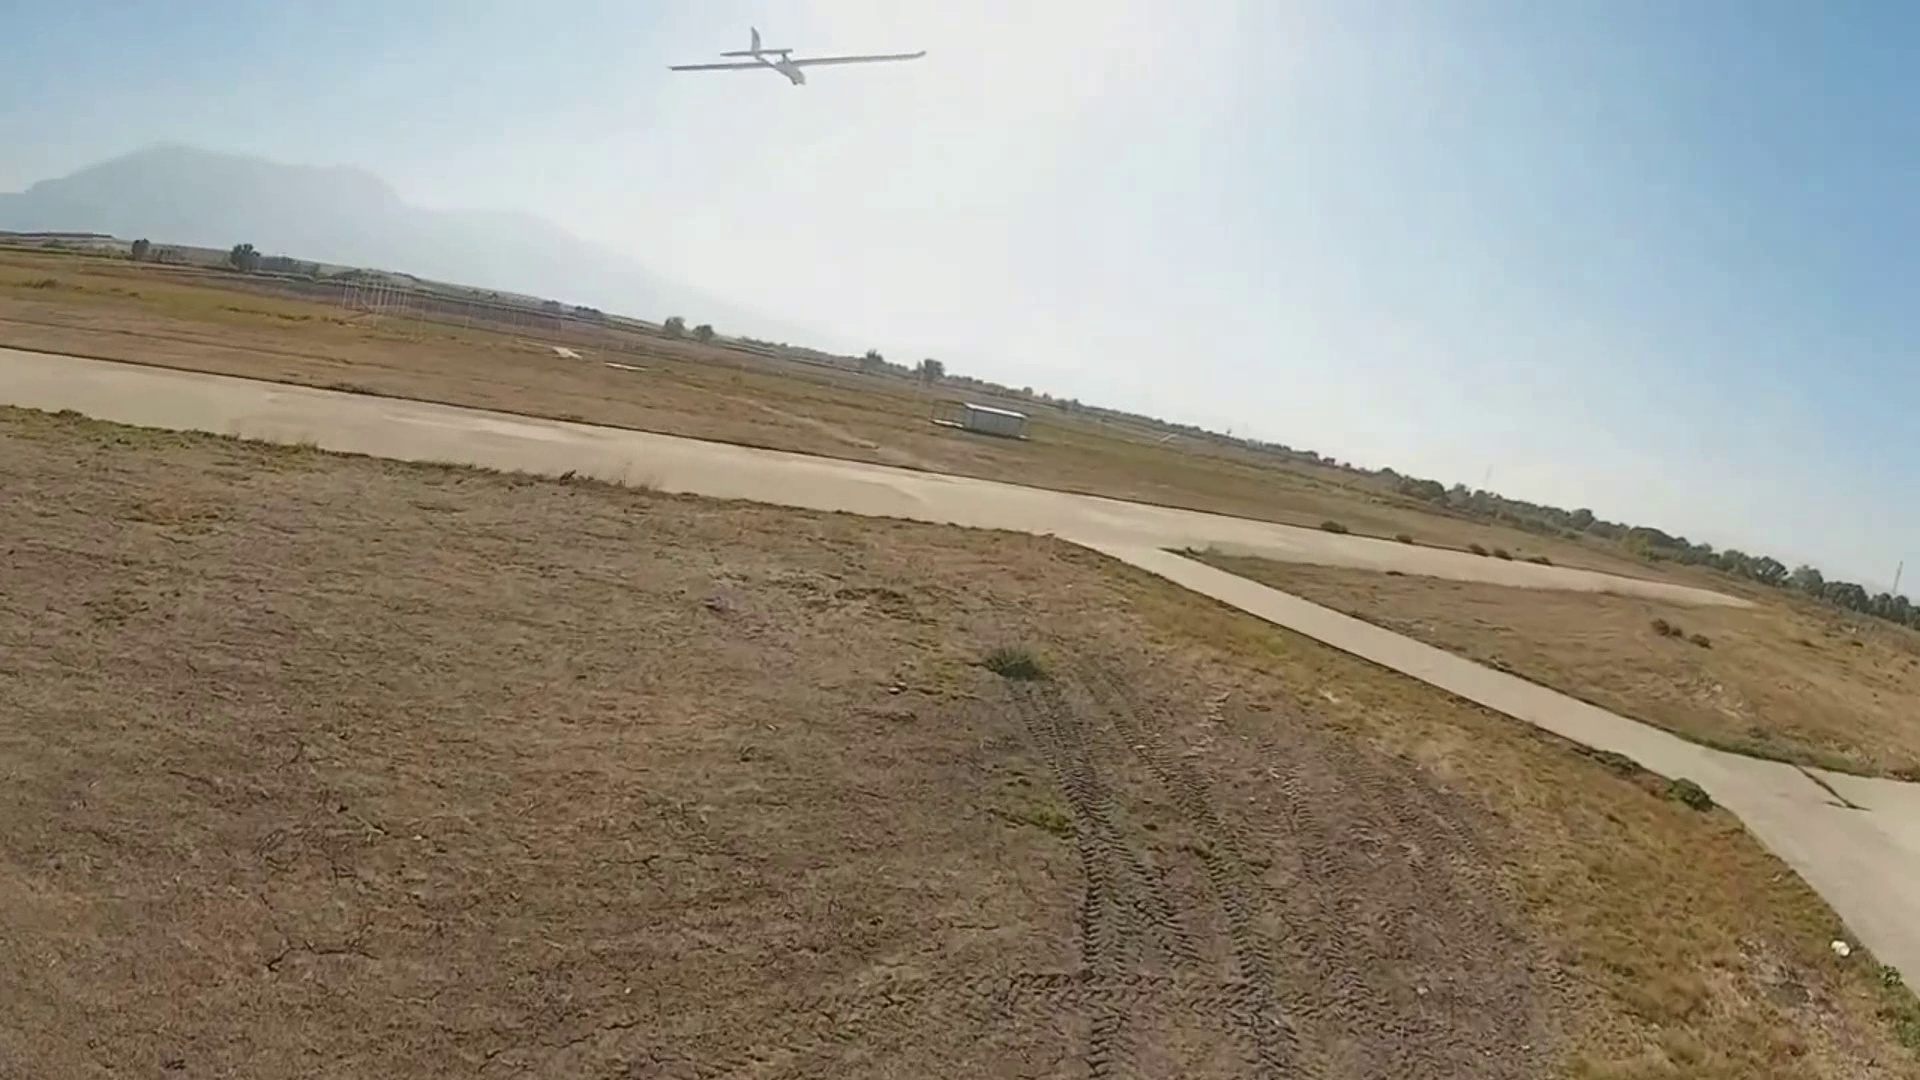airplane: (665, 25, 930, 86)
